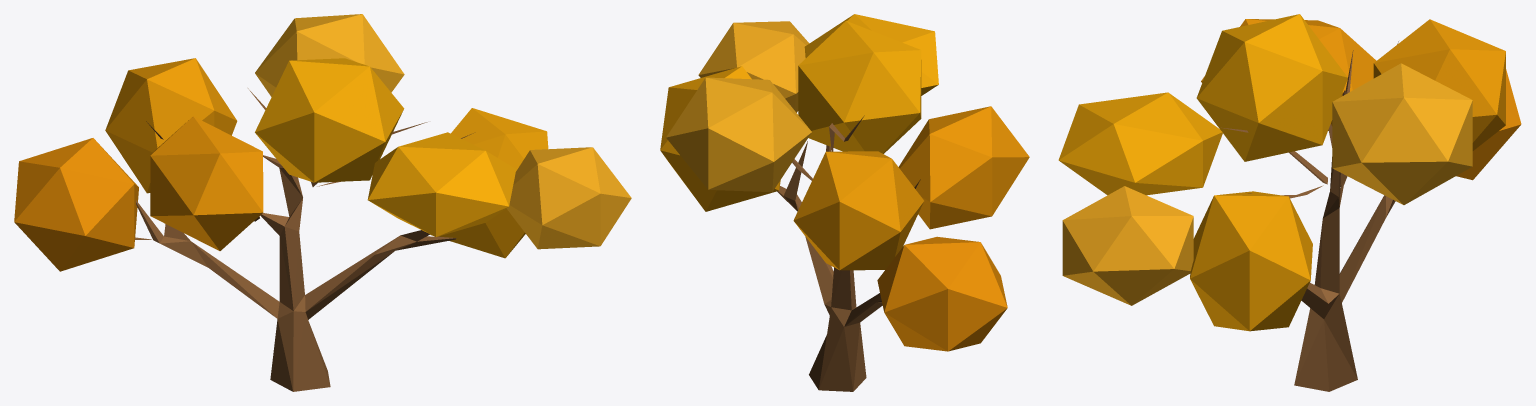
File: guayacan_1_autumn_far.glb
3 renders of one model, left to right at view 1: azimuth 30°, elevation 25°; view 2: azimuth 150°, elevation 25°; view 3: azimuth 270°, elevation 25°, orthographic. The views are drawn at different scales.
Parts seen in each view (by area): view 1: guayacan_1_autumn_far; view 2: guayacan_1_autumn_far; view 3: guayacan_1_autumn_far.
Part boxes in pixels (x1,y1,x2,y2): guayacan_1_autumn_far: (14, 14, 631, 391); guayacan_1_autumn_far: (660, 14, 1029, 391); guayacan_1_autumn_far: (1058, 14, 1521, 391).
Size of the model in its own units: 8.66 by 6.13 by 7.32.
